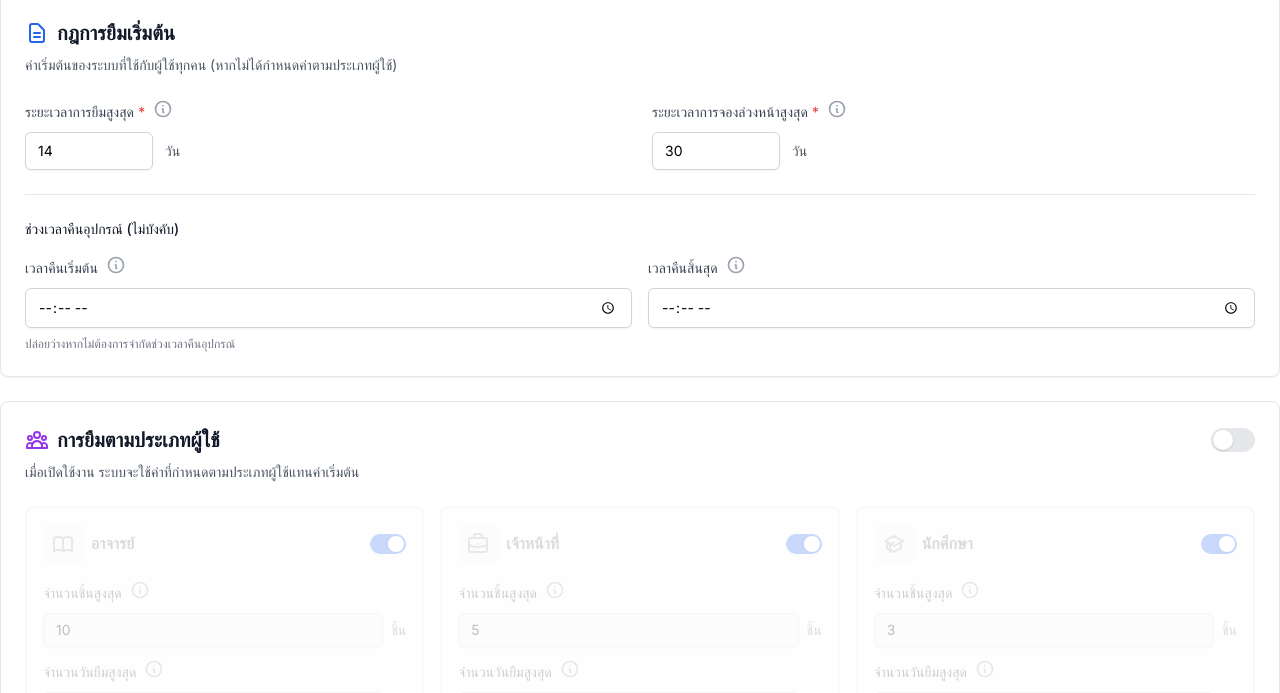
UnifiedLoanSettingsTab Integration Tests › Reset Functionality Integration › should reset form to original values when cancel is clicked
The image size is (1280, 693).
// Modify a setting
Step 1. Replace the text in the number field with id "maxLoanDuration" with "21" → (89, 151), box top-left (25, 132), bottom-right (153, 170)
(page scrolled)
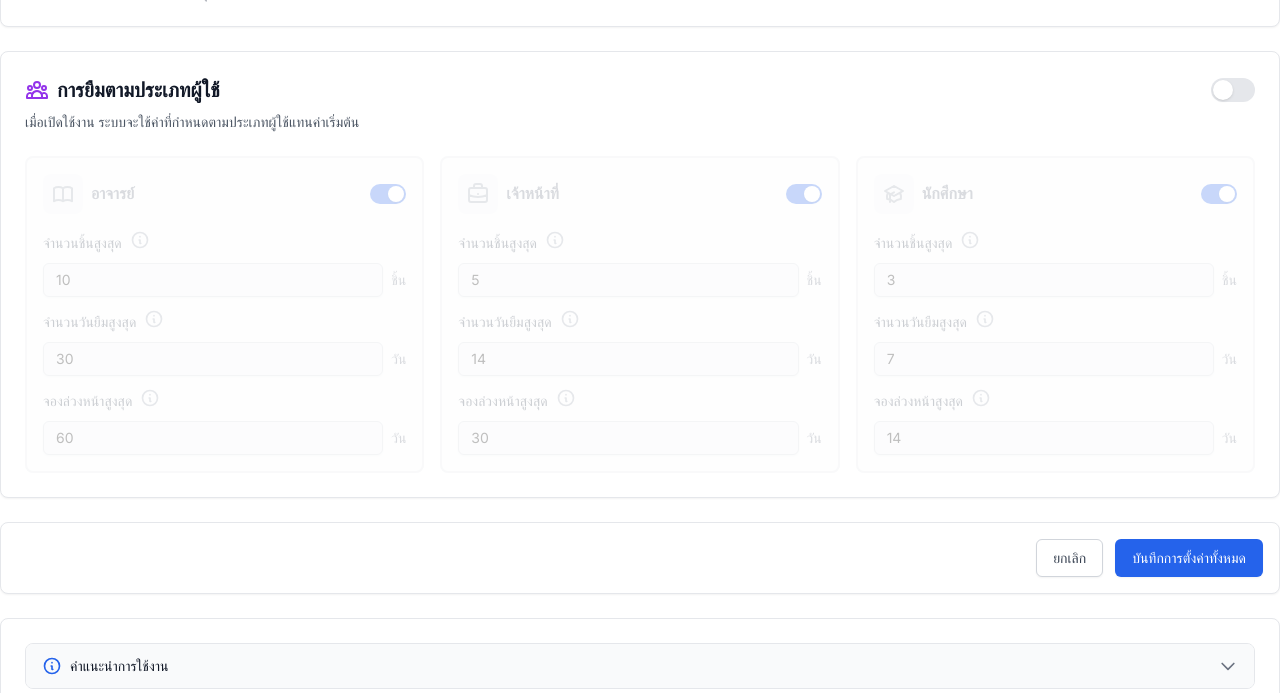
// Click cancel button
Step 2. Click the button "ยกเลิก" → (1070, 558), box top-left (1036, 539), bottom-right (1103, 577)
(page scrolled)
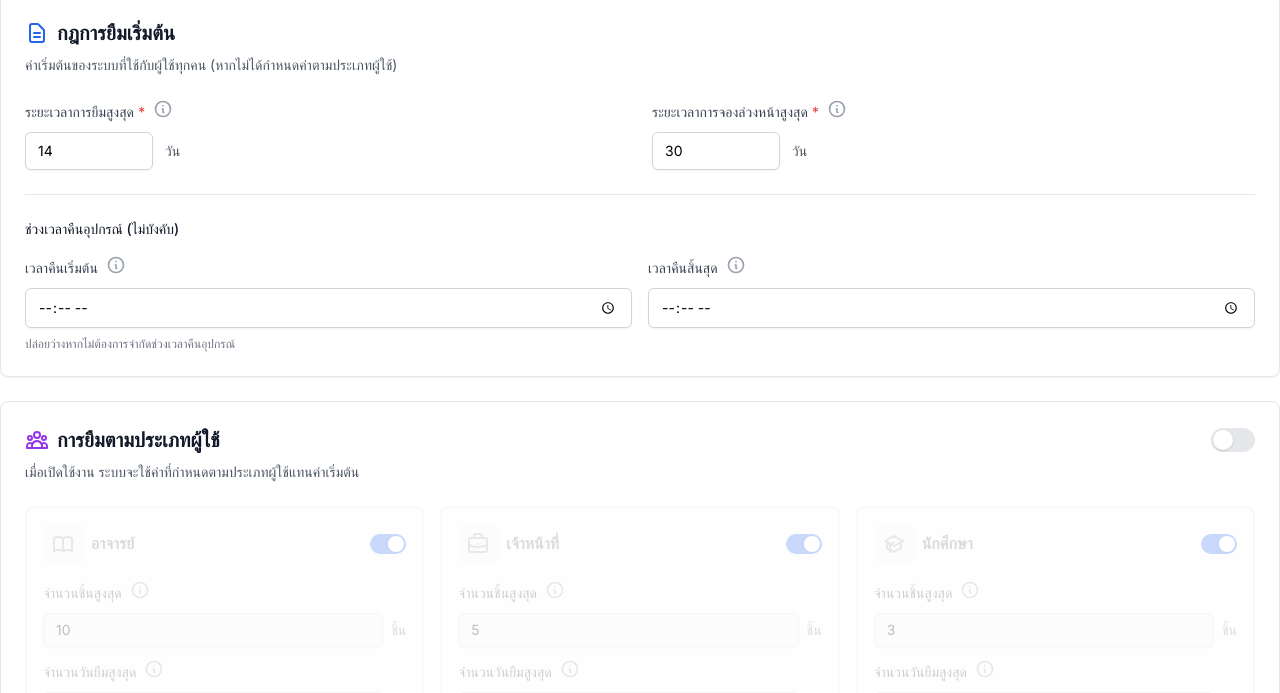
Result: the number field with id "maxLoanDuration" holds "14" at top-left (25, 132), bottom-right (153, 170)
